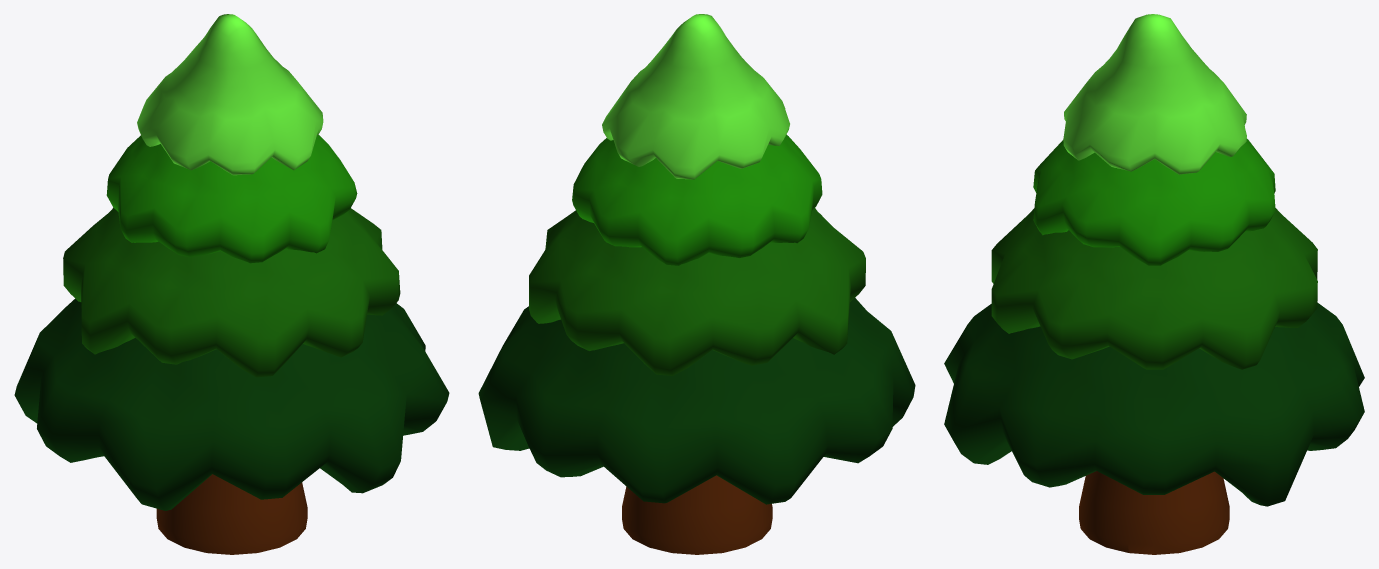
Rendered from Sapin_triangle.fbx.
3 views of the same model, side by side, from view 1: azimuth 30°, elevation 25°; view 2: azimuth 150°, elevation 25°; view 3: azimuth 270°, elevation 25° (orthographic).
Visible parts, largest first — view 1: Tronc002, 012; view 2: Tronc002, 012; view 3: Tronc002, 012.
Boxes of the visible parts, x1,y1,x2,y2 form: Tronc002: [14, 134, 449, 554]; 012: [137, 14, 323, 175]; Tronc002: [478, 134, 915, 554]; 012: [602, 14, 789, 179]; Tronc002: [944, 138, 1364, 554]; 012: [1063, 14, 1246, 174].
Bounding box in the file's own units: 4.2 × 5.39 × 4.06.
